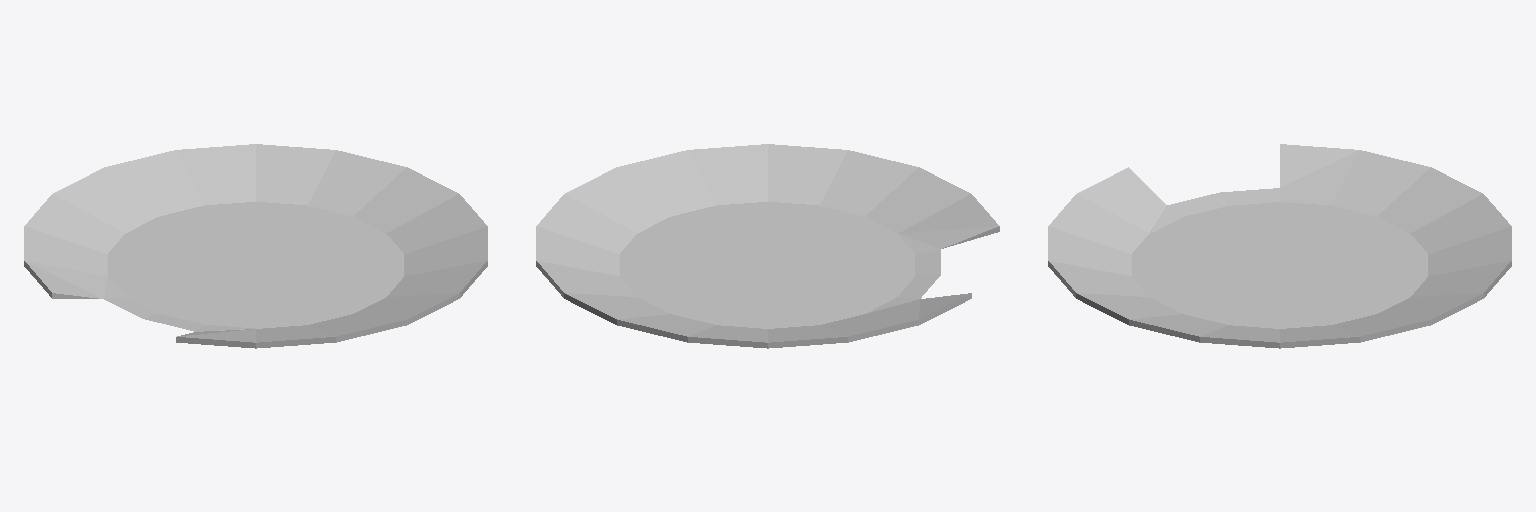
The model's file is Plate2.obj.
3 renders of one model, left to right at view 1: azimuth 30°, elevation 25°; view 2: azimuth 150°, elevation 25°; view 3: azimuth 270°, elevation 25°, orthographic.
Parts seen in each view (by area): view 1: Cylinder01; view 2: Cylinder01; view 3: Cylinder01.
Part boxes in pixels (left/top/right/bottom): Cylinder01: left=24, top=144, right=487, bottom=348; Cylinder01: left=536, top=144, right=999, bottom=348; Cylinder01: left=1048, top=144, right=1511, bottom=348.
Bounding box in the file's own units: 76.2 × 4.52 × 75.04.